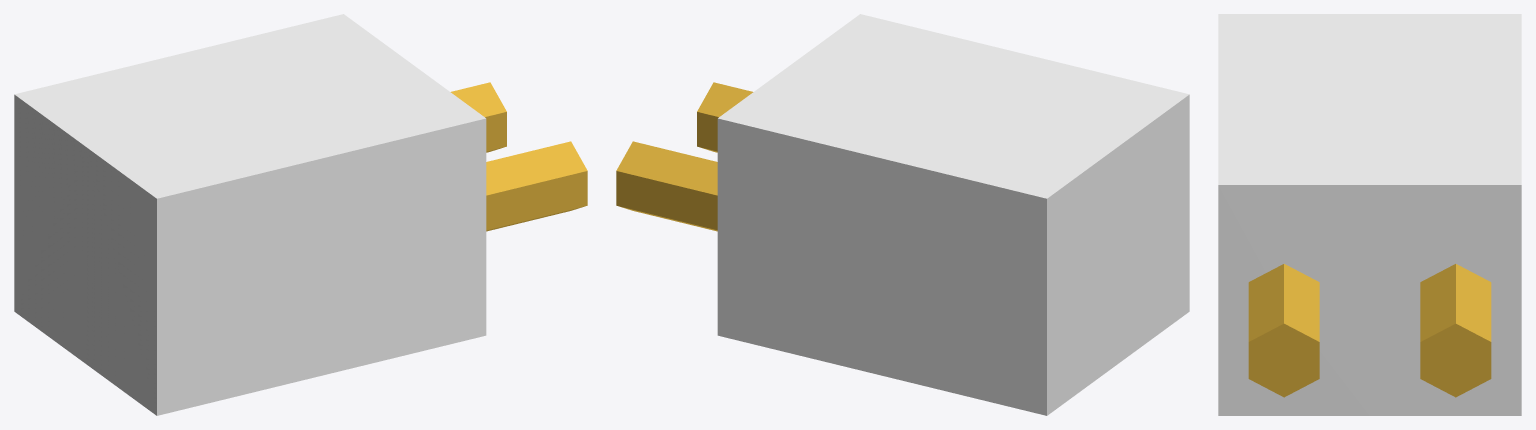
Rendered from plug.glb.
3 views of the same model, side by side, from view 1: azimuth 30°, elevation 25°; view 2: azimuth 150°, elevation 25°; view 3: azimuth 270°, elevation 25° (orthographic). The views are drawn at different scales.
Visible parts, largest first — view 1: Plug.001; view 2: Plug.001; view 3: Plug.001.
Boxes of the visible parts, bbox=[...] form: Plug.001: bbox=[14, 14, 587, 415]; Plug.001: bbox=[616, 14, 1189, 415]; Plug.001: bbox=[1218, 14, 1521, 415].
Size of the model in its own units: 0.2145 by 0.1 by 0.119.
2 materials, 1 textured.
